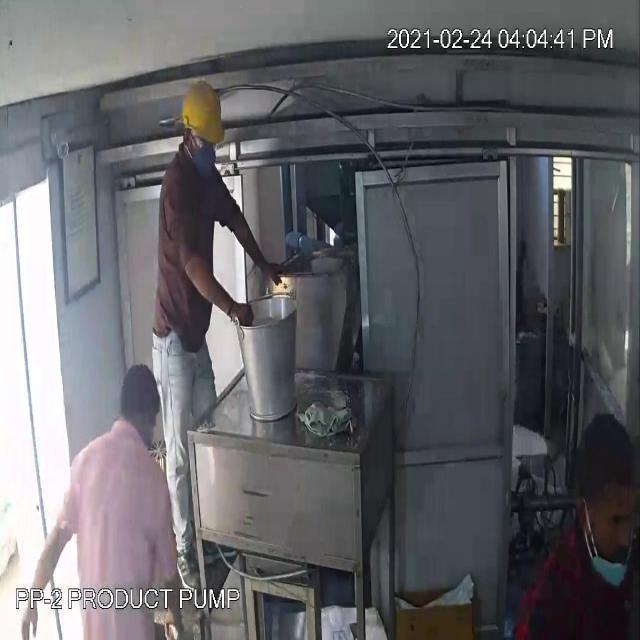hat: (178, 71, 232, 155)
